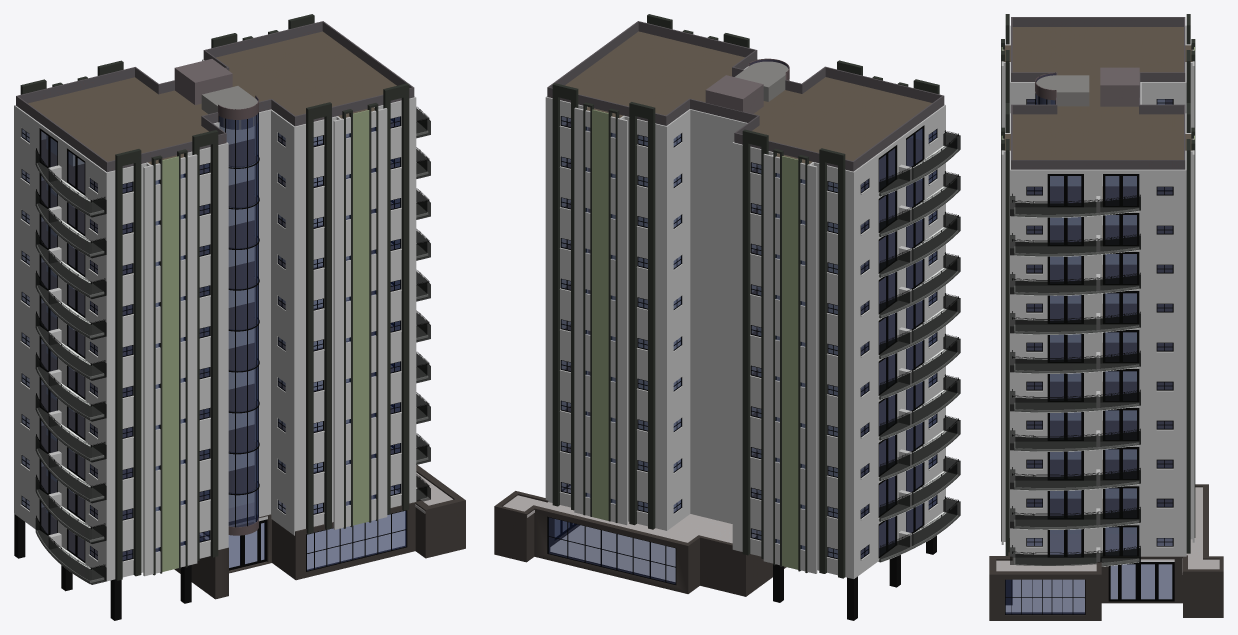
File: building3-transformed.glb
3 views of the same model, side by side, from view 1: azimuth 30°, elevation 25°; view 2: azimuth 150°, elevation 25°; view 3: azimuth 270°, elevation 25° (orthographic). The views are drawn at different scales.
Parts seen in each view (by area): view 1: Line413_Material #6_0, Circle001_glass_0, Line410_Material #25_0, Line050_Material #25_0, Line320_Material #25_0, Line140_Material #25_0, Line095_Material #25_0, Line275_Material #25_0, Line365_Material #25_0, Line185_Material #25_0, Line230_Material #25_0, Line001_Material #25_0 (+49 smaller); view 2: Line413_Material #6_0, Line410_Material #25_0, Line320_Material #25_0, Line185_Material #25_0, Line050_Material #25_0, Line230_Material #25_0, Line275_Material #25_0, Line365_Material #25_0, Line095_Material #25_0, Line140_Material #25_0, Line001_Material #25_0, Line463_Material #16_0 (+47 smaller); view 3: Line413_Material #6_0, Line463_Material #16_0, Line410_Material #25_0, Line465_Material #13_0, Line475_Material #19_0, Line365_Material #25_0, Line050_Material #25_0, Line140_Material #25_0, Line095_Material #25_0, Line185_Material #25_0, Line230_Material #25_0, Line320_Material #25_0 (+63 smaller).
Boxes of the visible parts, x1,y1,x2,y2 form: Line413_Material #6_0: (28, 31, 396, 164); Circle001_glass_0: (219, 97, 258, 526); Line410_Material #25_0: (14, 59, 416, 213); Line050_Material #25_0: (14, 424, 416, 540); Line320_Material #25_0: (14, 179, 416, 295); Line140_Material #25_0: (14, 342, 416, 458); Line095_Material #25_0: (14, 383, 416, 499); Line275_Material #25_0: (14, 220, 416, 336); Line365_Material #25_0: (14, 138, 416, 254); Line185_Material #25_0: (14, 302, 416, 417); Line230_Material #25_0: (14, 261, 416, 376); Line001_Material #25_0: (14, 465, 416, 581); Line413_Material #6_0: (565, 31, 931, 164); Line410_Material #25_0: (545, 59, 945, 212); Line320_Material #25_0: (545, 178, 945, 294); Line185_Material #25_0: (545, 300, 945, 416); Line050_Material #25_0: (545, 422, 945, 538); Line230_Material #25_0: (545, 260, 945, 375); Line275_Material #25_0: (545, 219, 945, 334); Line365_Material #25_0: (545, 138, 945, 253); Line095_Material #25_0: (545, 382, 945, 497); Line140_Material #25_0: (545, 341, 945, 456); Line001_Material #25_0: (545, 463, 945, 578); Line463_Material #16_0: (494, 484, 786, 596); Line413_Material #6_0: (1003, 27, 1192, 159); Line463_Material #16_0: (989, 484, 1223, 620); Line410_Material #25_0: (1001, 25, 1194, 212); Line465_Material #13_0: (1011, 17, 1185, 169); Line475_Material #19_0: (1050, 99, 1164, 533); Line365_Material #25_0: (1001, 102, 1194, 251); Line050_Material #25_0: (1001, 463, 1194, 524); Line140_Material #25_0: (1001, 385, 1194, 446); Line095_Material #25_0: (1001, 424, 1194, 485); Line185_Material #25_0: (1001, 346, 1194, 407); Line230_Material #25_0: (1001, 307, 1194, 368); Line320_Material #25_0: (1001, 229, 1194, 290).
Bounding box in the file's own units: 30.13 × 37.41 × 17.51.
2 materials, 2 textured.
